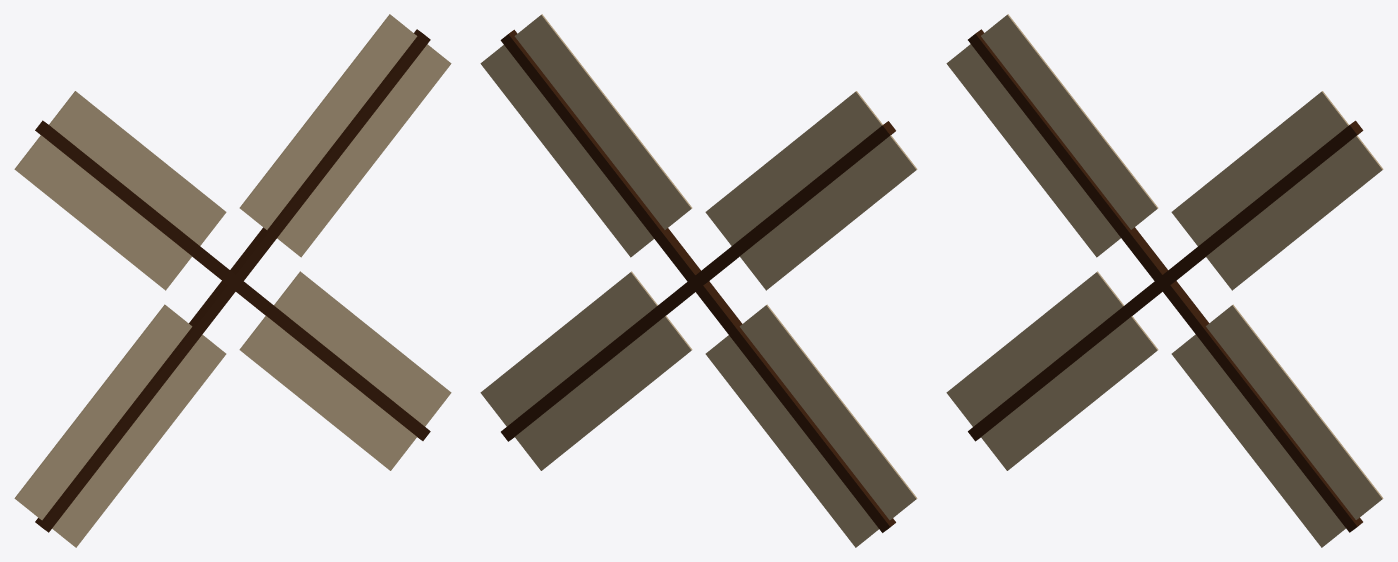
File: WindBladev3.fbx
The picture shows the model from 3 angles, left to right: view 1: azimuth 30°, elevation 25°; view 2: azimuth 150°, elevation 25°; view 3: azimuth 330°, elevation 25°; orthographic projection.
Parts seen in each view (by area): view 1: Plane.422; view 2: Plane.422; view 3: Plane.422.
Boxes of the visible parts, left/top/right/bottom form: Plane.422: left=14, top=14, right=451, bottom=547; Plane.422: left=480, top=14, right=917, bottom=547; Plane.422: left=946, top=14, right=1383, bottom=547.
Size of the model in its own units: 97.59 by 97.59 by 2.36.
